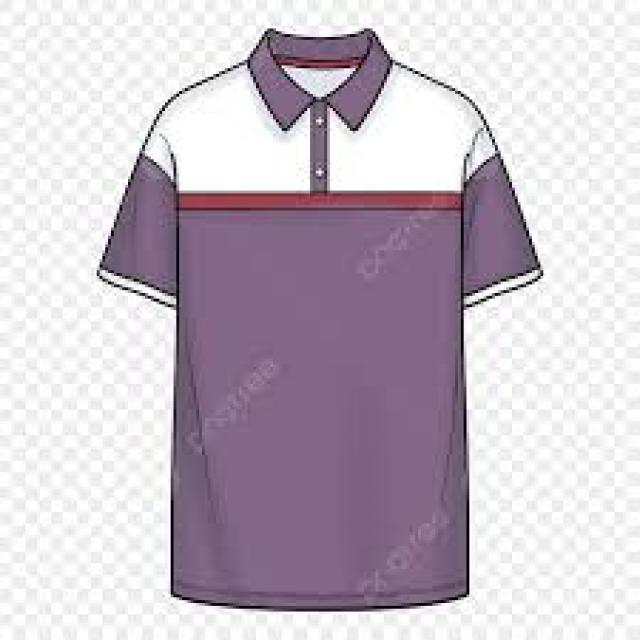Shirt: (98, 17, 544, 627)
